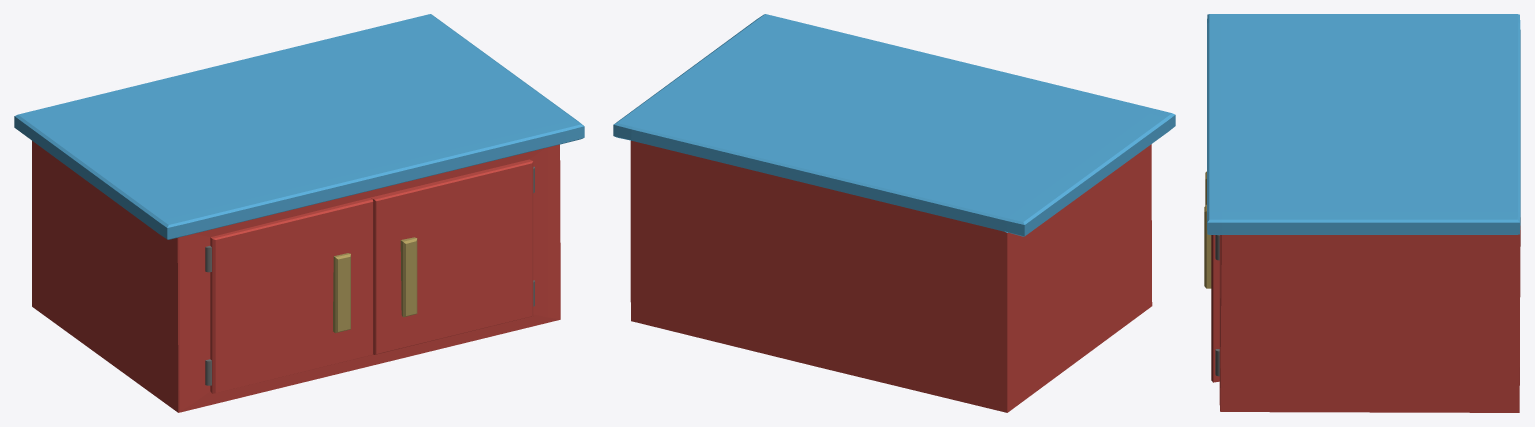
Rendered from LudumDareCabinetSmall 1.fbx.
3 renders of one model, left to right at view 1: azimuth 30°, elevation 25°; view 2: azimuth 150°, elevation 25°; view 3: azimuth 270°, elevation 25°, orthographic. The views are drawn at different scales.
Parts seen in each view (by area): view 1: Cabinet Small, Cabinet Small.002, Cabinet Small.001; view 2: Cabinet Small, Cabinet Small.002; view 3: Cabinet Small.002, Cabinet Small, Cabinet Small.001.
Boxes of the visible parts, x1,y1,x2,y2 form: Cabinet Small: (32, 141, 560, 412); Cabinet Small.002: (14, 14, 584, 239); Cabinet Small.001: (333, 237, 417, 333); Cabinet Small: (630, 141, 1152, 412); Cabinet Small.002: (613, 14, 1175, 236); Cabinet Small.002: (1207, 14, 1520, 234); Cabinet Small: (1211, 226, 1520, 412); Cabinet Small.001: (1204, 171, 1211, 288).
Bounding box in the file's own units: 116 × 52.09 × 74.21.
